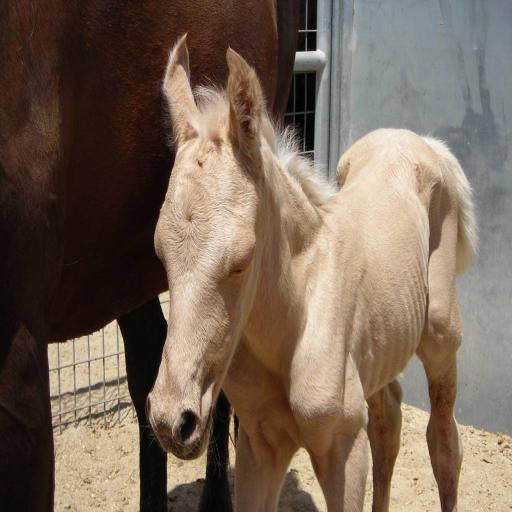horse: (143, 32, 481, 512), (0, 2, 302, 512)
